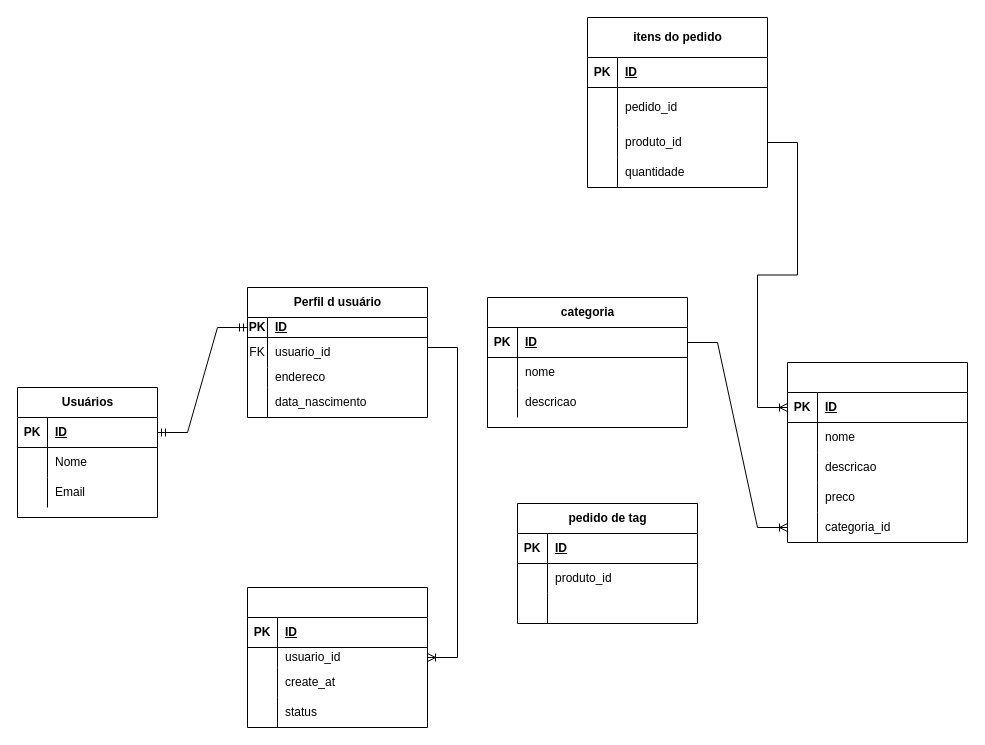
This 985x745 diagram has some shape labels left out. Here are the shapes that lost their labels. From the top down, the box of each, then its label:
(786, 362, 968, 542): produto
(246, 586, 428, 728): pedido
